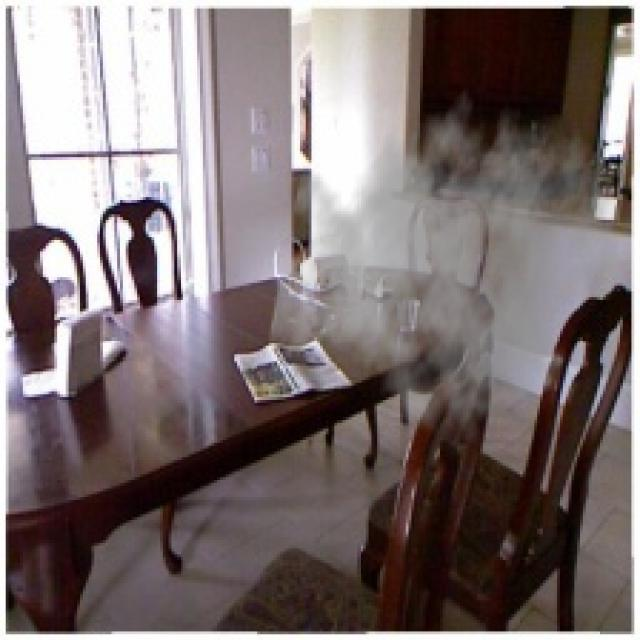Smoke: (266, 71, 623, 448)
